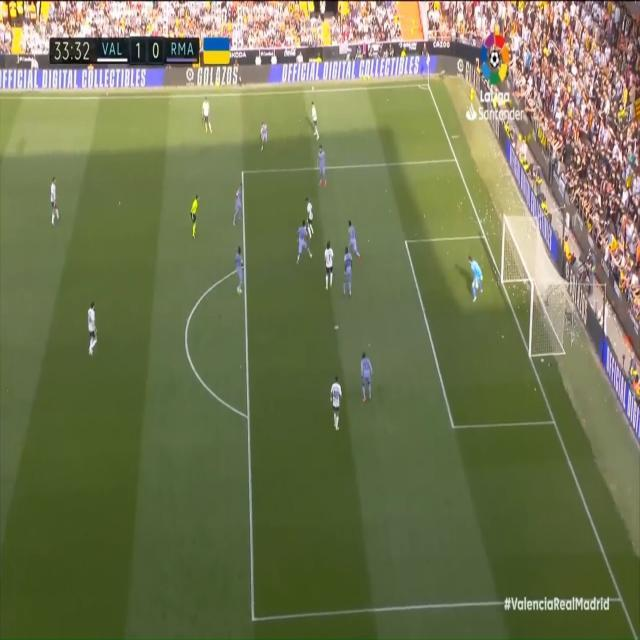goalkeeper: (461, 251, 488, 310)
player: (327, 371, 352, 445), (81, 301, 107, 361), (43, 170, 65, 234), (312, 139, 335, 198), (341, 242, 359, 307), (199, 98, 222, 148), (228, 180, 247, 239), (306, 99, 327, 152), (231, 243, 248, 306), (360, 342, 376, 407), (323, 237, 339, 298), (295, 224, 318, 264), (301, 194, 320, 237), (254, 120, 276, 153), (346, 213, 358, 265)
referee: (187, 193, 208, 242)
